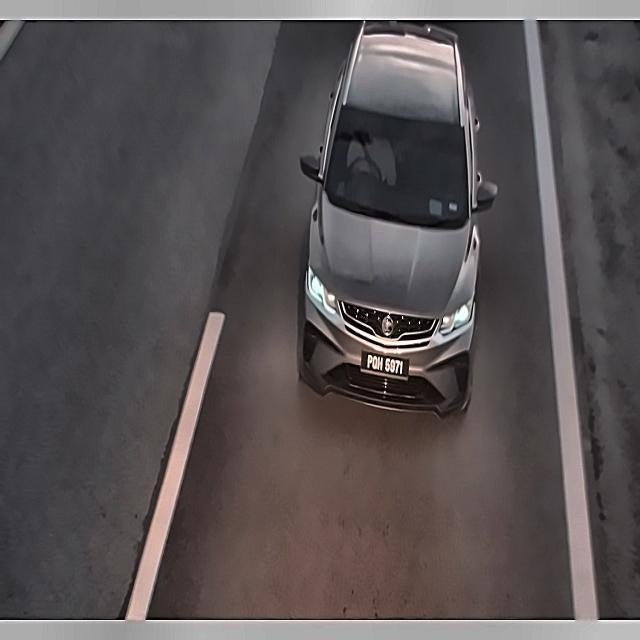car: (358, 342, 414, 380)
